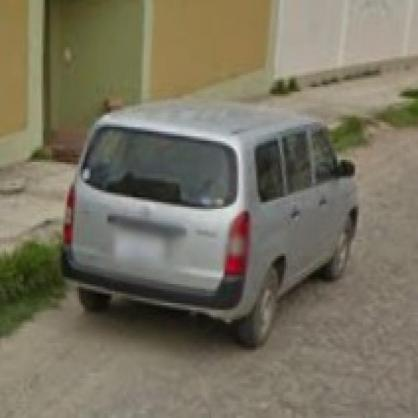car: (60, 94, 363, 352)
